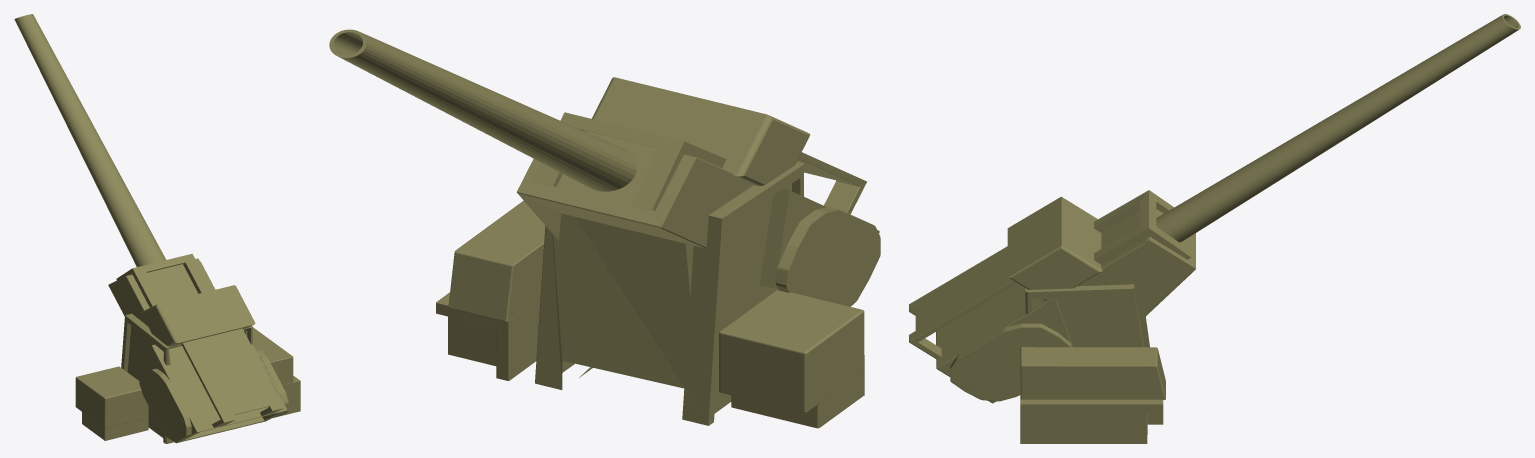
File: QF3inLOD0.glb
The picture shows the model from 3 angles, left to right: view 1: azimuth 30°, elevation 25°; view 2: azimuth 150°, elevation 25°; view 3: azimuth 270°, elevation 25°; orthographic projection. The views are drawn at different scales.
Parts seen in each view (by area): view 1: 3Inch.50.Mk34.Single.scale.1.500.Simple; view 2: 3Inch.50.Mk34.Single.scale.1.500.Simple; view 3: 3Inch.50.Mk34.Single.scale.1.500.Simple.
Part boxes in pixels (<box>): 3Inch.50.Mk34.Single.scale.1.500.Simple: <box>14,14,300,443</box>; 3Inch.50.Mk34.Single.scale.1.500.Simple: <box>329,29,880,428</box>; 3Inch.50.Mk34.Single.scale.1.500.Simple: <box>909,14,1520,443</box>.
Bounding box in the file's own units: 4.25 × 6.52 × 9.67.
